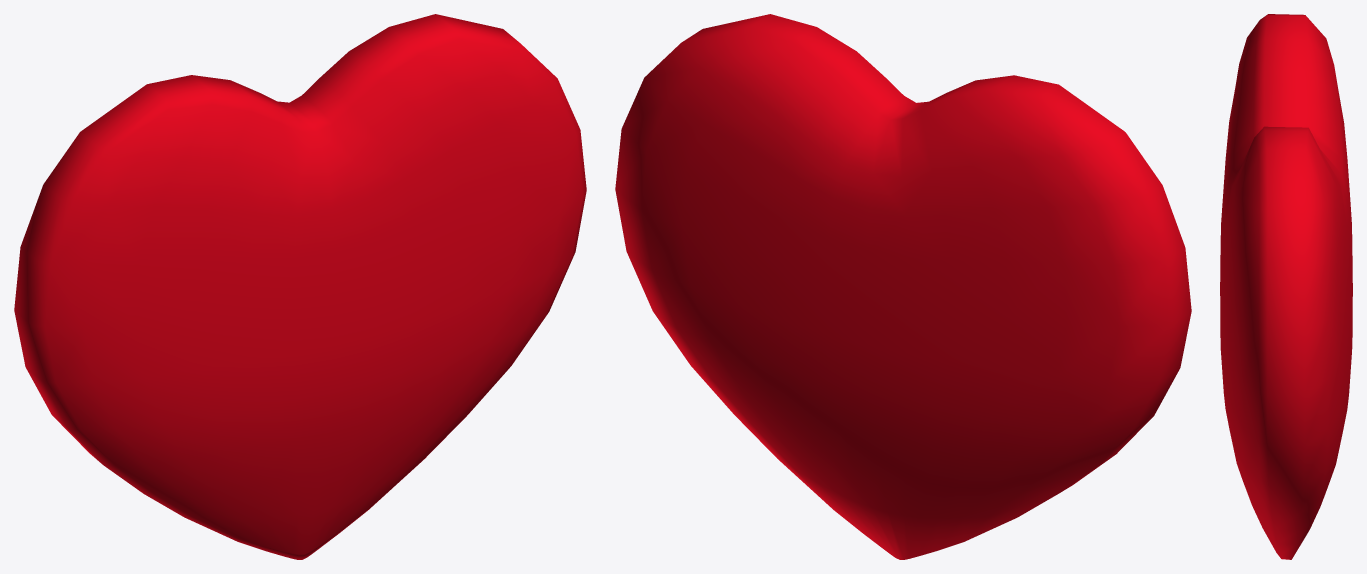
File: Heart.fbx
The picture shows the model from 3 angles, left to right: view 1: azimuth 30°, elevation 25°; view 2: azimuth 150°, elevation 25°; view 3: azimuth 270°, elevation 25°; orthographic projection. The views are drawn at different scales.
Parts seen in each view (by area): view 1: Heart; view 2: Heart; view 3: Heart.
Part boxes in pixels (x1=…): Heart: x1=14, y1=14, x2=586, y2=559; Heart: x1=615, y1=14, x2=1191, y2=559; Heart: x1=1220, y1=14, x2=1352, y2=559.
Size of the model in its own units: 86.08 by 74.05 by 18.74.
